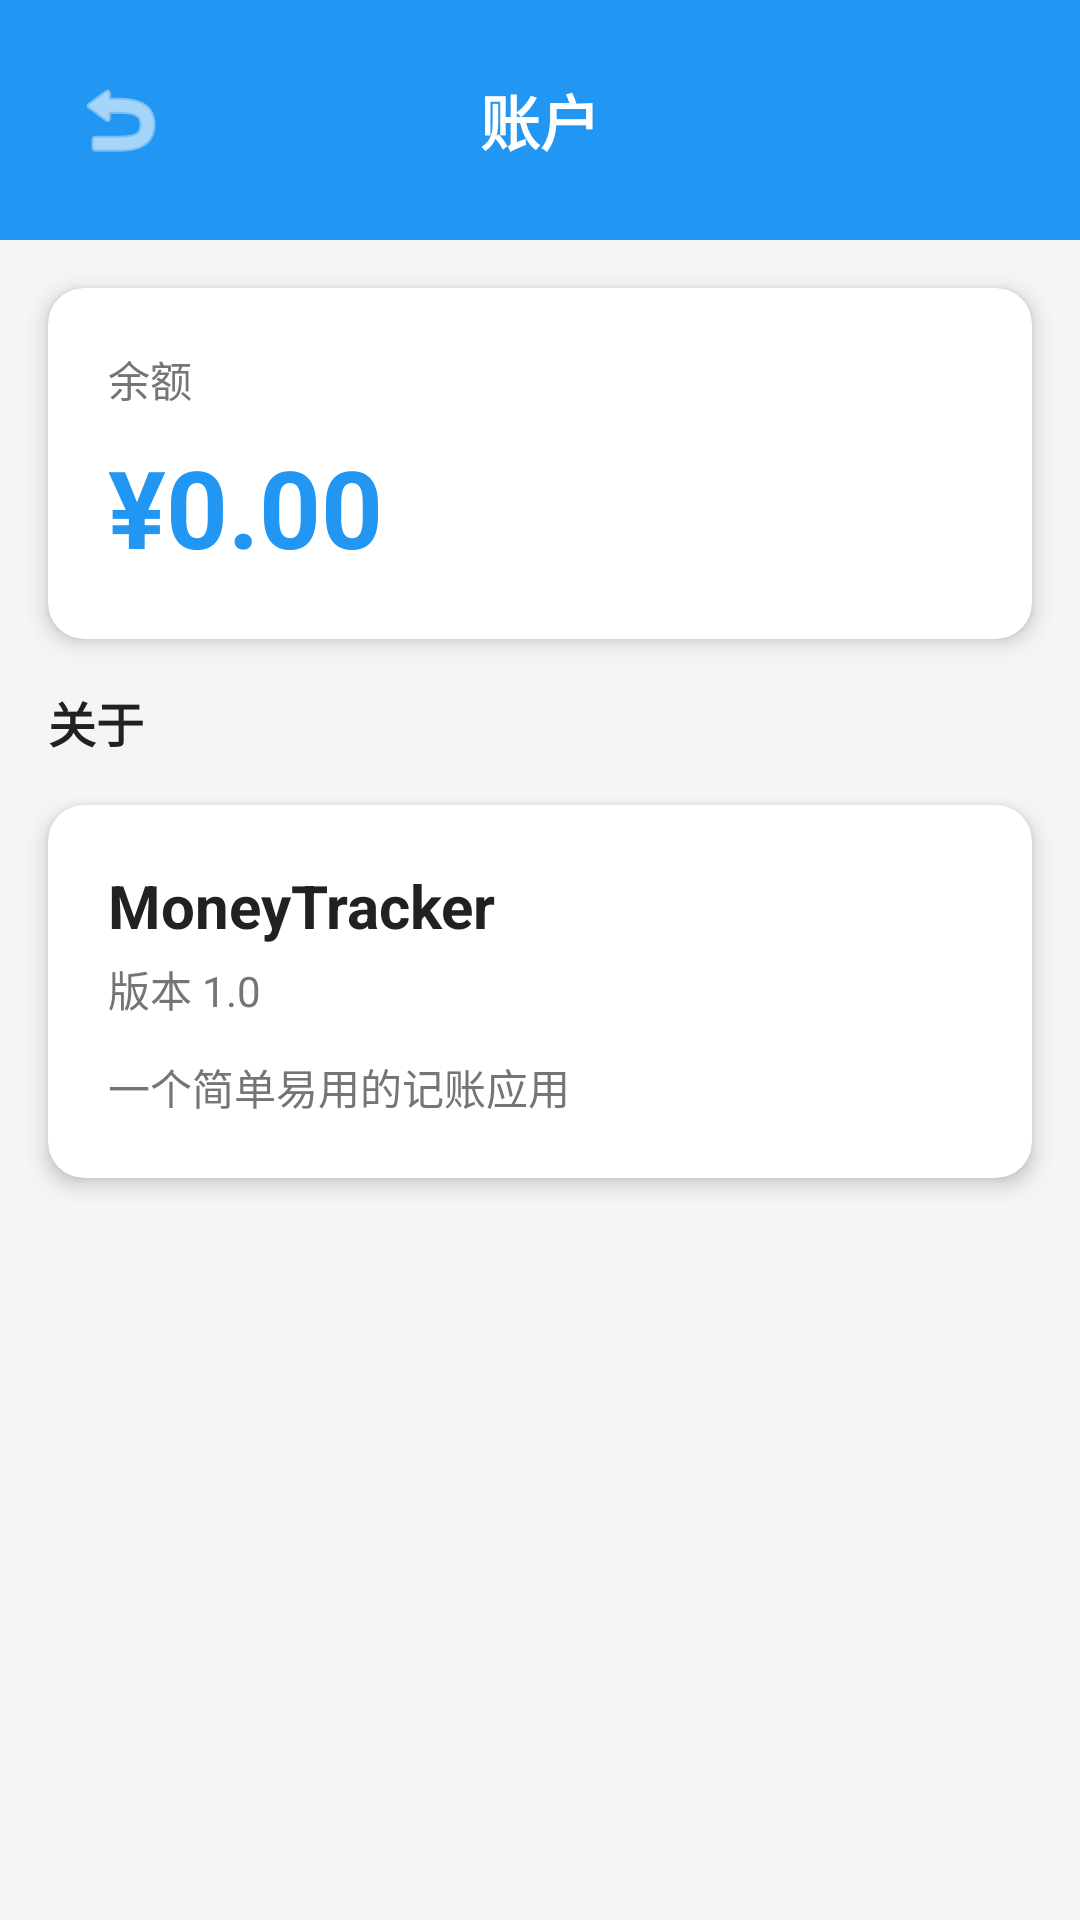

Point at icon controls on the screen. Image size 1080w x 1920h, points as point (x, y).
取消: point (121, 120)
